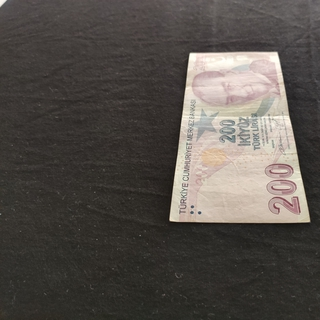200TLFront: (168, 50, 311, 223)
